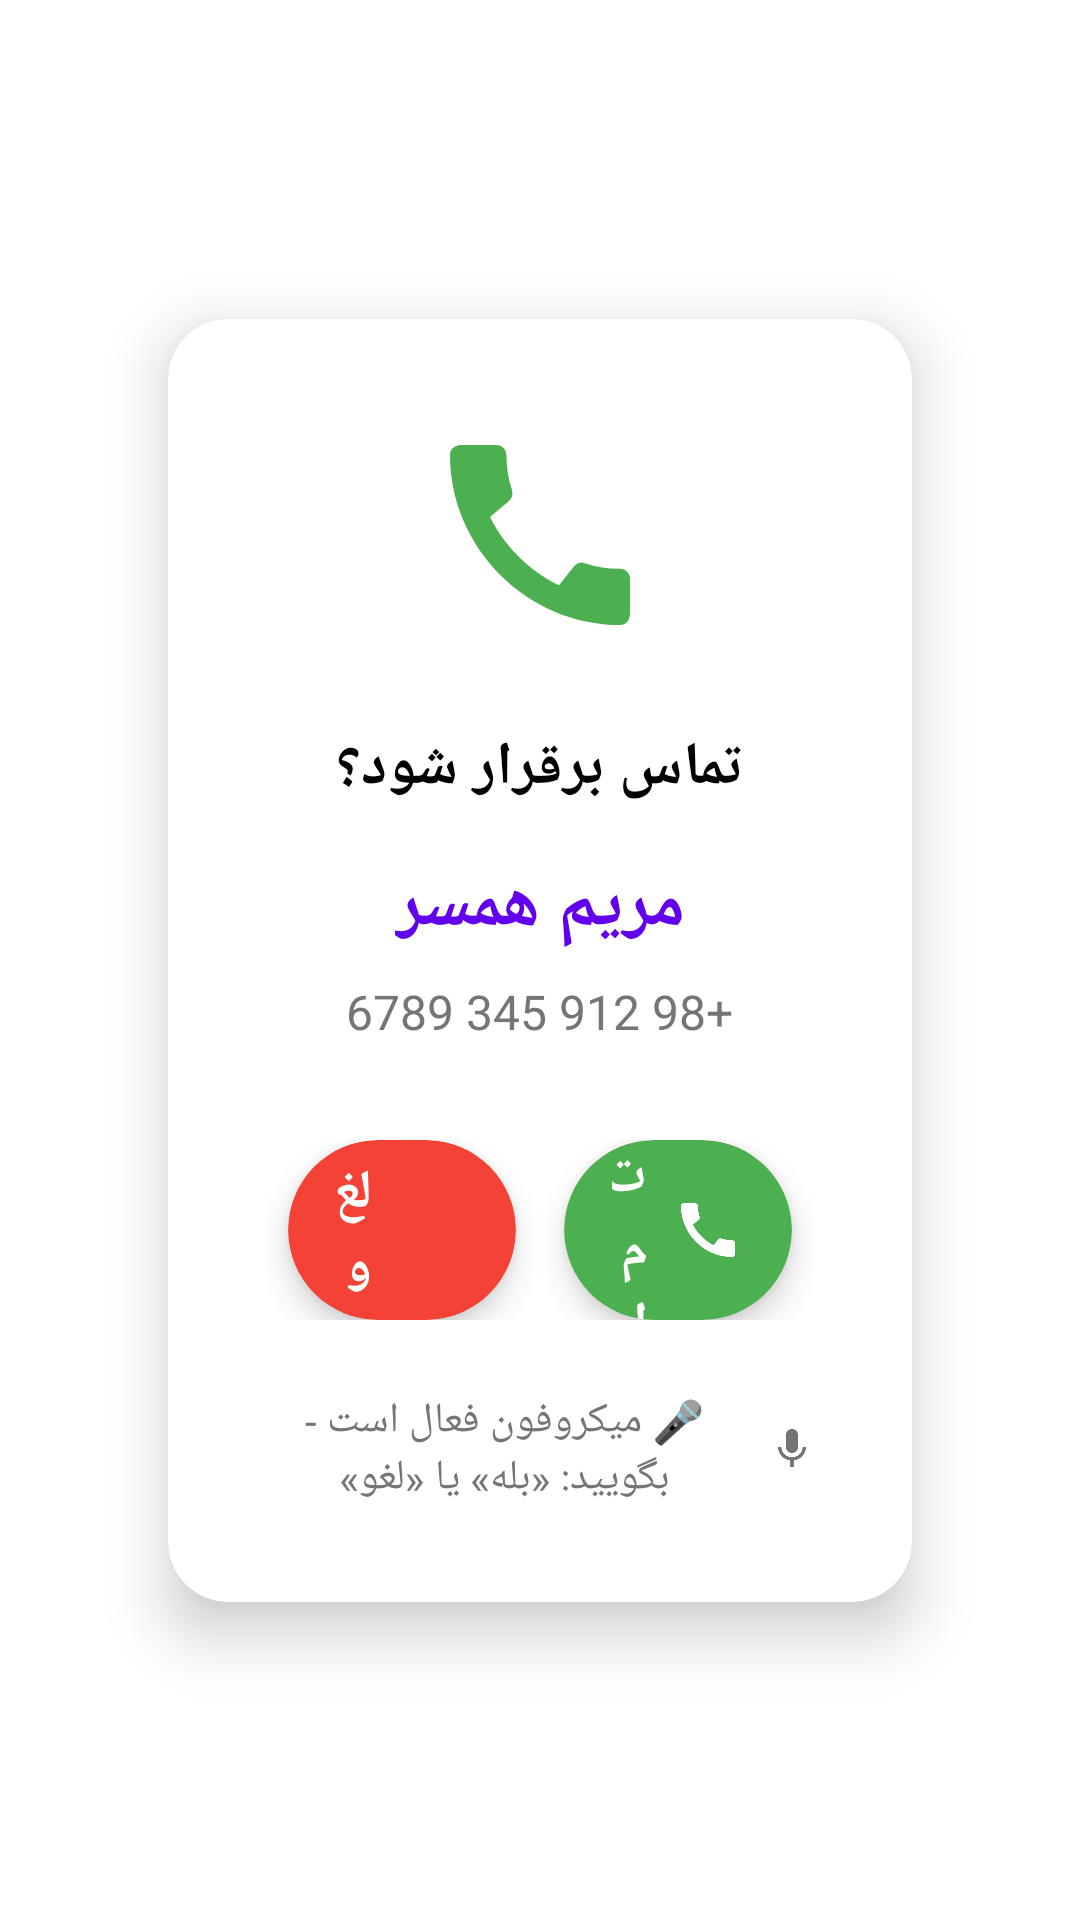

Screen size 1080×1920. Icon name, then its center in pixels as (x,y):
آیکون تماس: (540,535)
